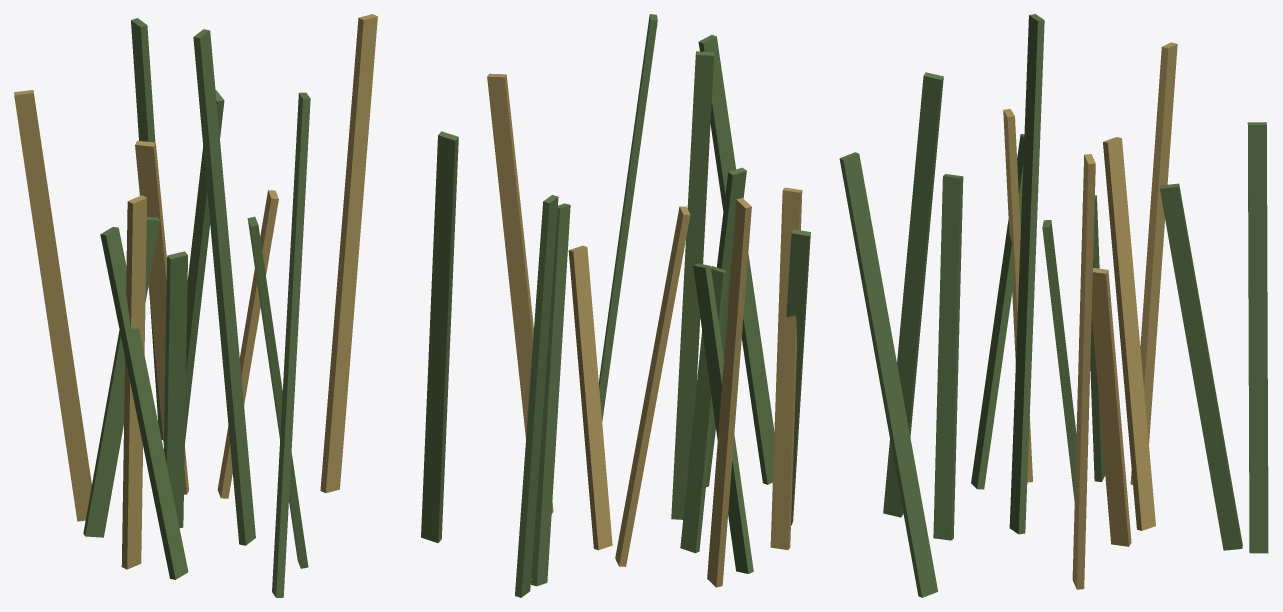
File: P_Reeds.glb
3 views of the same model, side by side, from view 1: azimuth 30°, elevation 25°; view 2: azimuth 150°, elevation 25°; view 3: azimuth 270°, elevation 25° (orthographic). The views are drawn at different scales.
Parts seen in each view (by area): view 1: P_Reeds; view 2: P_Reeds; view 3: P_Reeds.
Boxes of the visible parts, x1,y1,x2,y2 form: P_Reeds: [14, 14, 458, 597]; P_Reeds: [487, 14, 810, 597]; P_Reeds: [839, 14, 1268, 597].
Size of the model in its own units: 0.9528 by 1.45 by 1.13.
